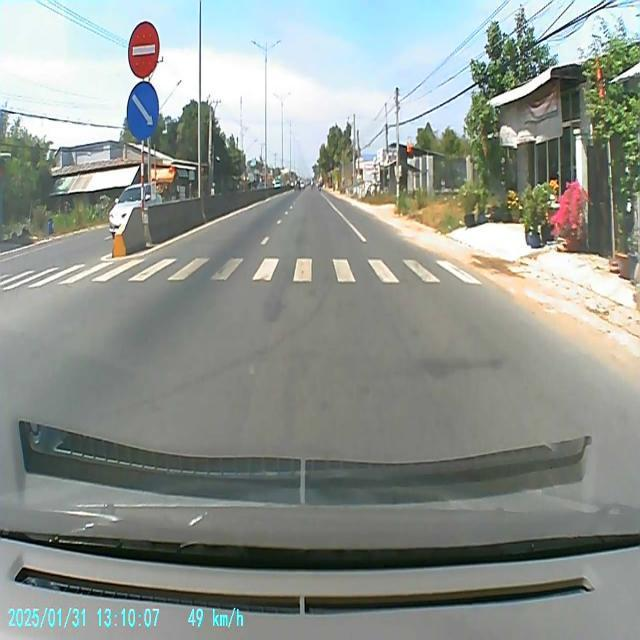102-cam-di-nguoc-chieu: (128, 18, 160, 80)
302a-huong-phai-di-vong-chuong-ngai-vat-1: (125, 80, 158, 140)
